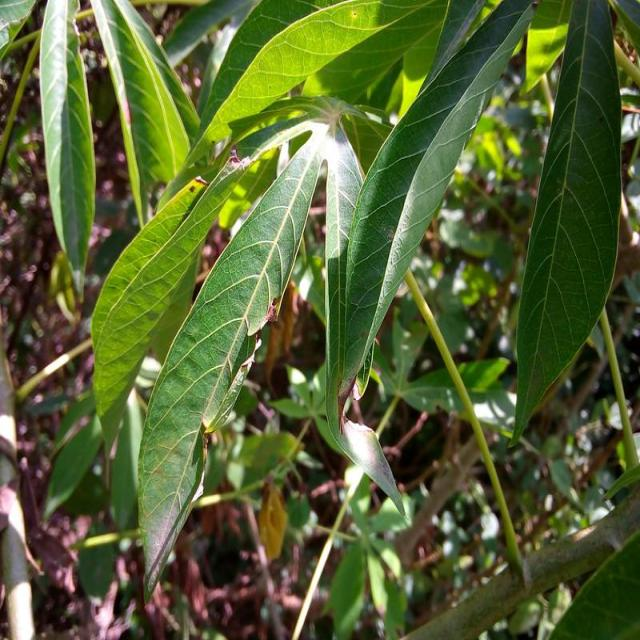cassava leaf: (135, 117, 329, 603), (507, 0, 623, 448), (90, 0, 200, 224), (37, 0, 96, 295)
